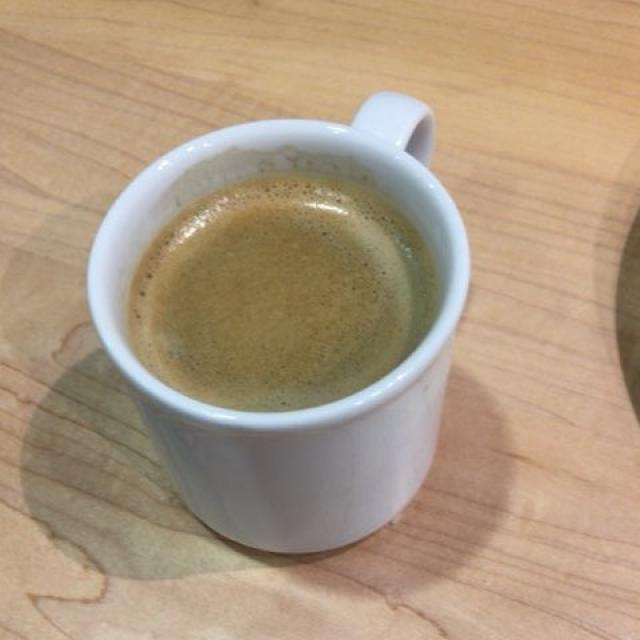coffee-with-caffeine: (131, 189, 426, 407)
